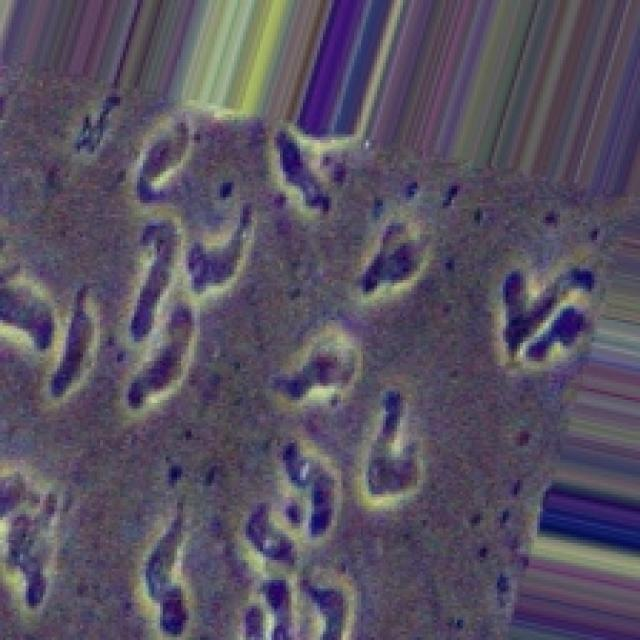Amoeba: (0, 54, 637, 637)
